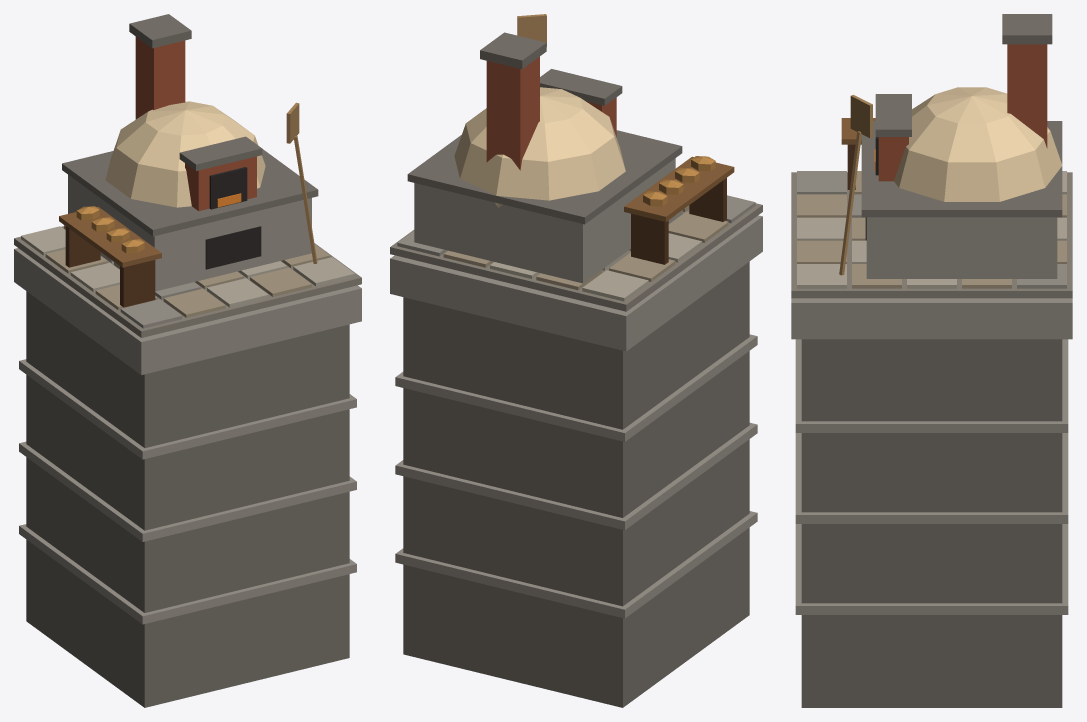
File: decor_public_oven.glb
3 views of the same model, side by side, from view 1: azimuth 30°, elevation 25°; view 2: azimuth 150°, elevation 25°; view 3: azimuth 270°, elevation 25° (orthographic). The views are drawn at different scales.
Parts seen in each view (by area): view 1: decor_public_oven; view 2: decor_public_oven; view 3: decor_public_oven.
Part boxes in pixels (bbox=[...]): decor_public_oven: bbox=[14, 14, 361, 707]; decor_public_oven: bbox=[390, 14, 762, 707]; decor_public_oven: bbox=[791, 14, 1072, 707].
Bounding box in the file's own units: 2.8 × 7 × 2.8.
